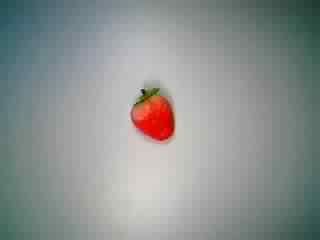strawberry: (121, 81, 183, 145)
